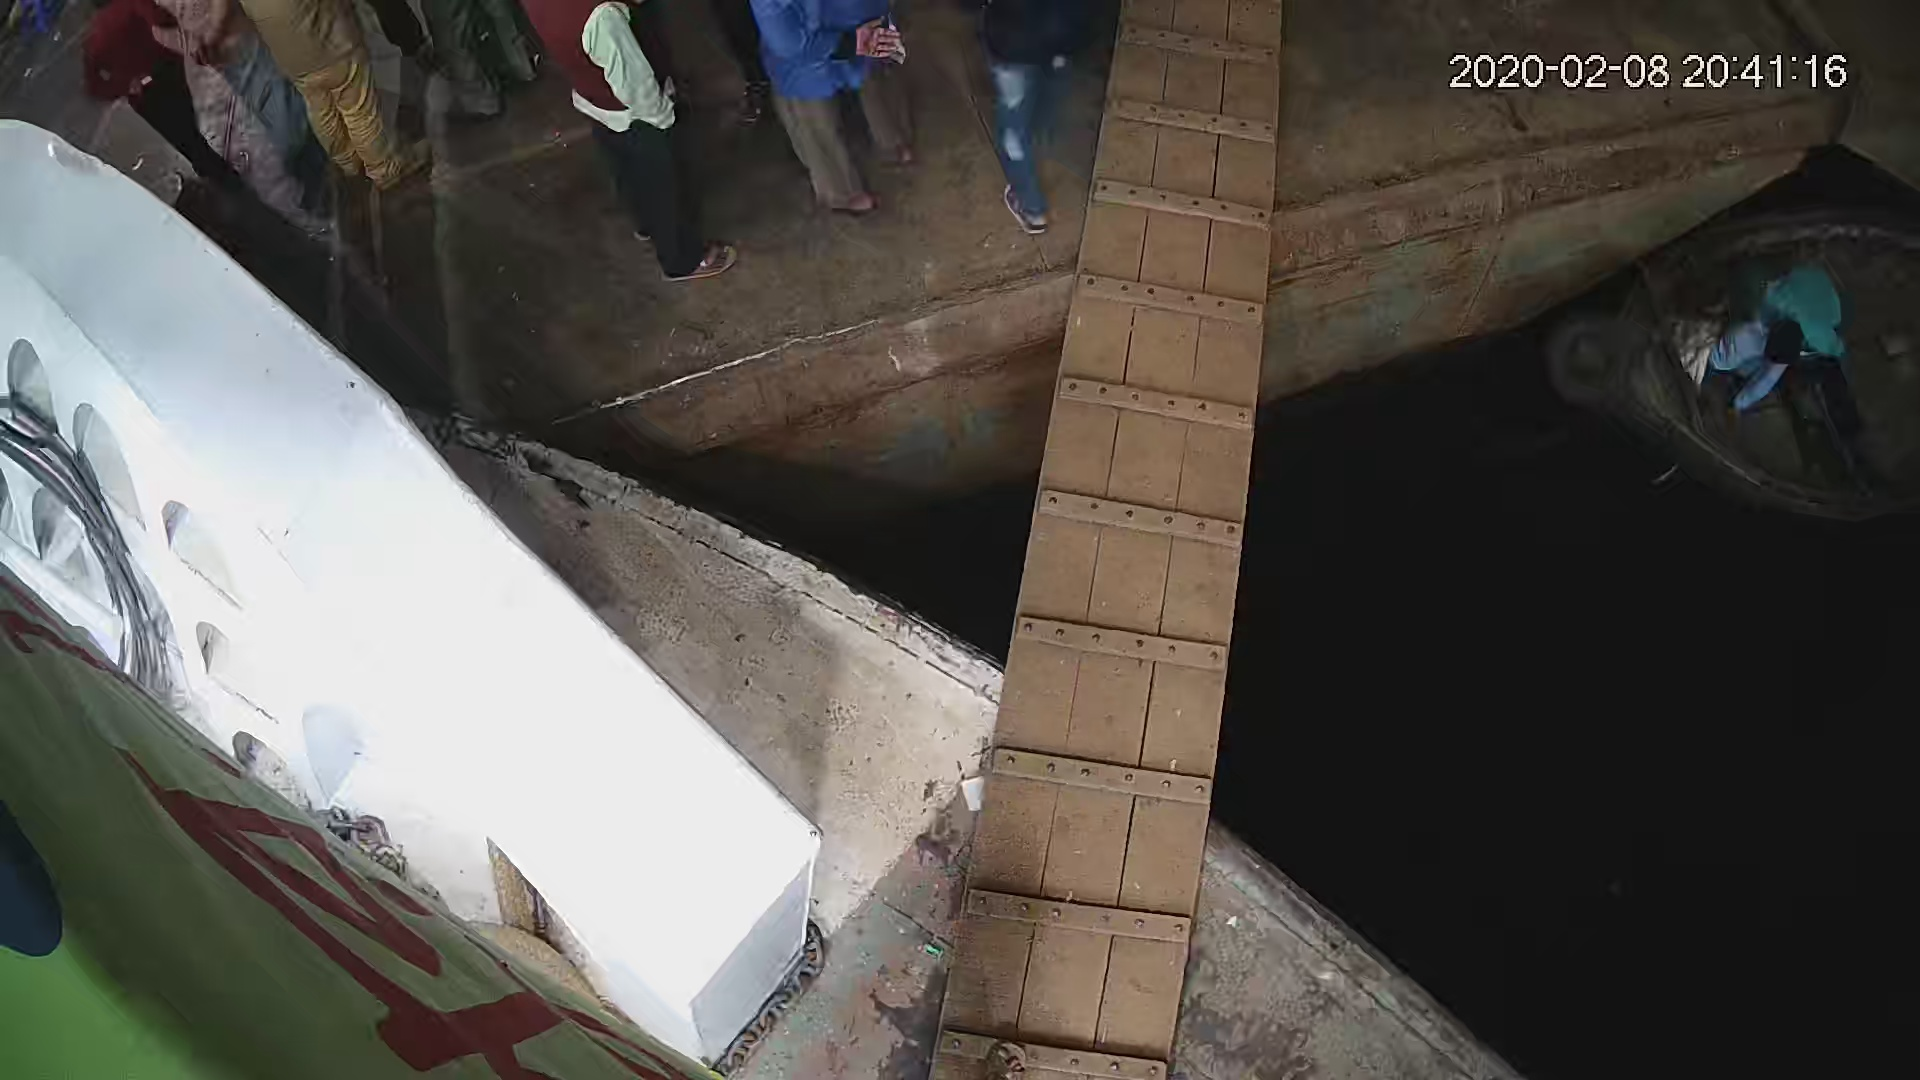person: (511, 3, 738, 290), (250, 1, 427, 195), (58, 1, 236, 180), (1708, 255, 1854, 415)
